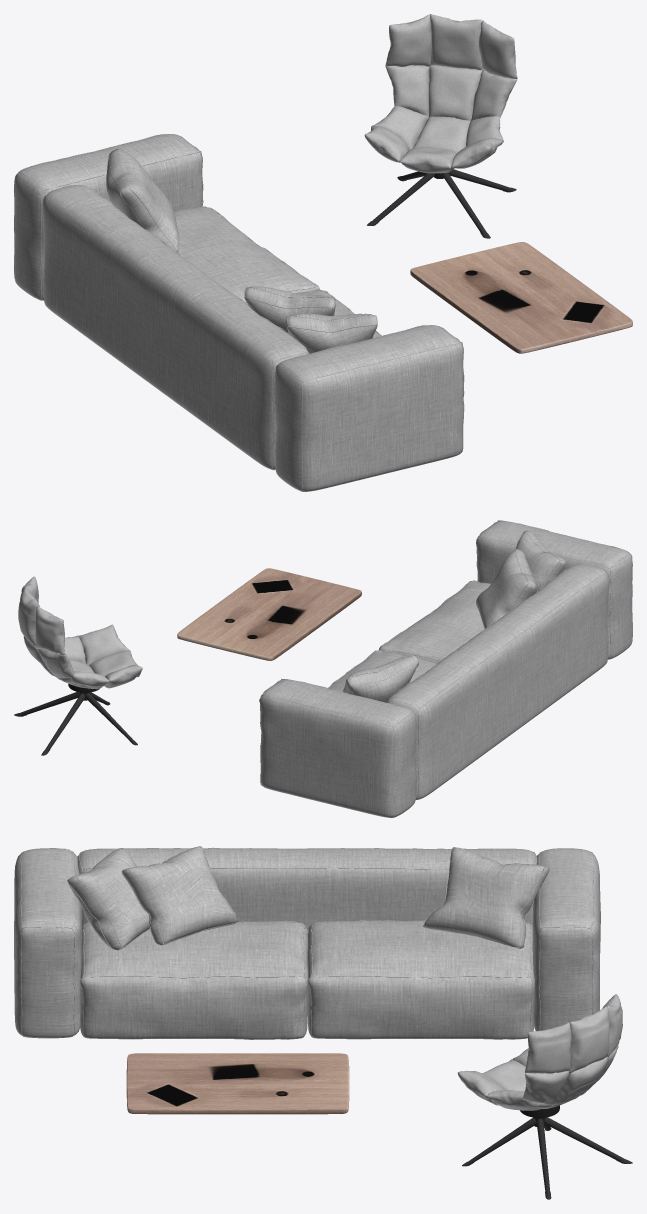
File: product.glb
The picture shows the model from 3 angles, top to bottom: view 1: azimuth 30°, elevation 25°; view 2: azimuth 150°, elevation 25°; view 3: azimuth 270°, elevation 25°; orthographic projection. The views are drawn at different scales.
Visible parts, largest first — view 1: Leather Sofa_Fabric.002_0.001, Cube.034_Fabric.001_0.001, Cube.021_Material.009_0.001, Chair_Material.010_0.001; view 2: Leather Sofa_Fabric.002_0.001, Cube.021_Material.009_0.001, Cube.034_Fabric.001_0.001, Chair_Material.010_0.001; view 3: Leather Sofa_Fabric.002_0.001, Cube.021_Material.009_0.001, Cube.034_Fabric.001_0.001, Chair_Material.010_0.001.
Part boxes in pixels (x1,y1,x2,y2): Leather Sofa_Fabric.002_0.001: (14, 134, 464, 491); Cube.034_Fabric.001_0.001: (364, 14, 517, 173); Cube.021_Material.009_0.001: (410, 242, 632, 353); Chair_Material.010_0.001: (367, 169, 516, 238); Leather Sofa_Fabric.002_0.001: (259, 520, 632, 817); Cube.021_Material.009_0.001: (177, 568, 361, 660); Cube.034_Fabric.001_0.001: (18, 576, 142, 689); Chair_Material.010_0.001: (14, 692, 137, 755); Leather Sofa_Fabric.002_0.001: (14, 846, 600, 1039); Cube.021_Material.009_0.001: (126, 1053, 349, 1114); Cube.034_Fabric.001_0.001: (457, 994, 622, 1110); Chair_Material.010_0.001: (462, 1117, 632, 1199).
Size of the model in its own units: 2.92 by 0.9611 by 3.25.
Materials: 5 (3 with a texture image).
